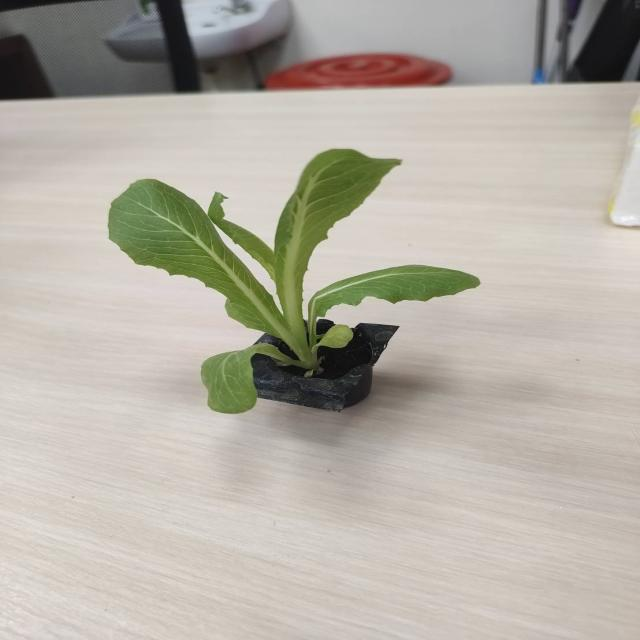Lettuce-Not-Ready-to-Harvest: (108, 149, 478, 412)
